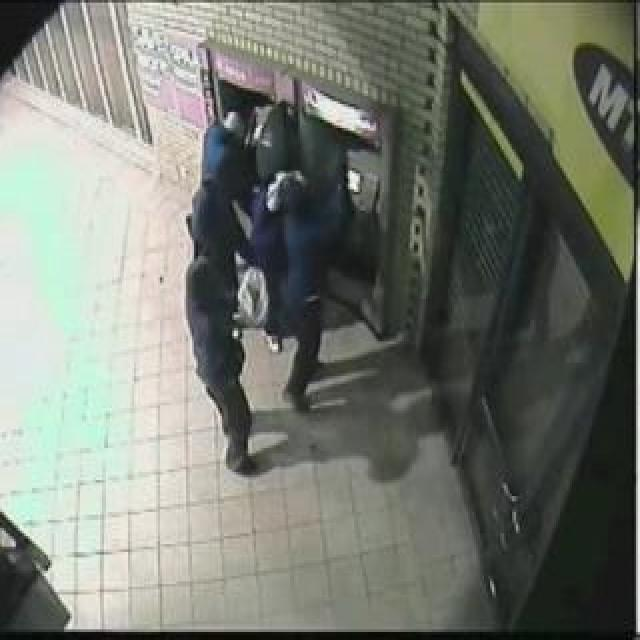thief: (193, 105, 326, 347)
